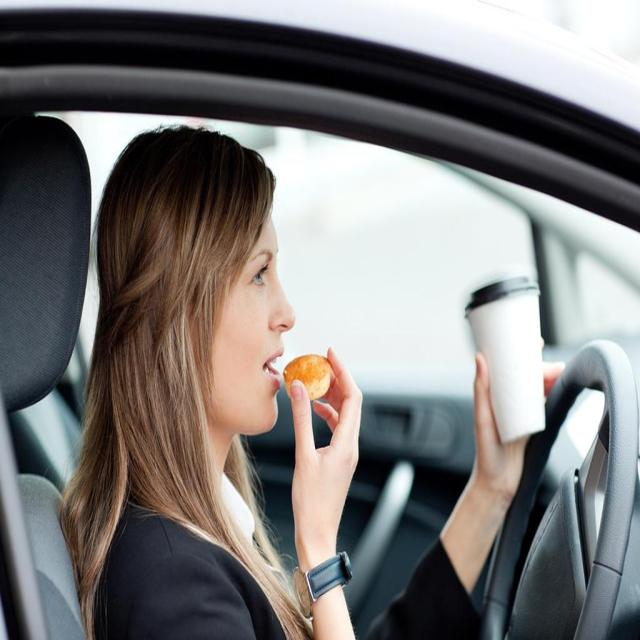Face: (218, 179, 293, 460)
